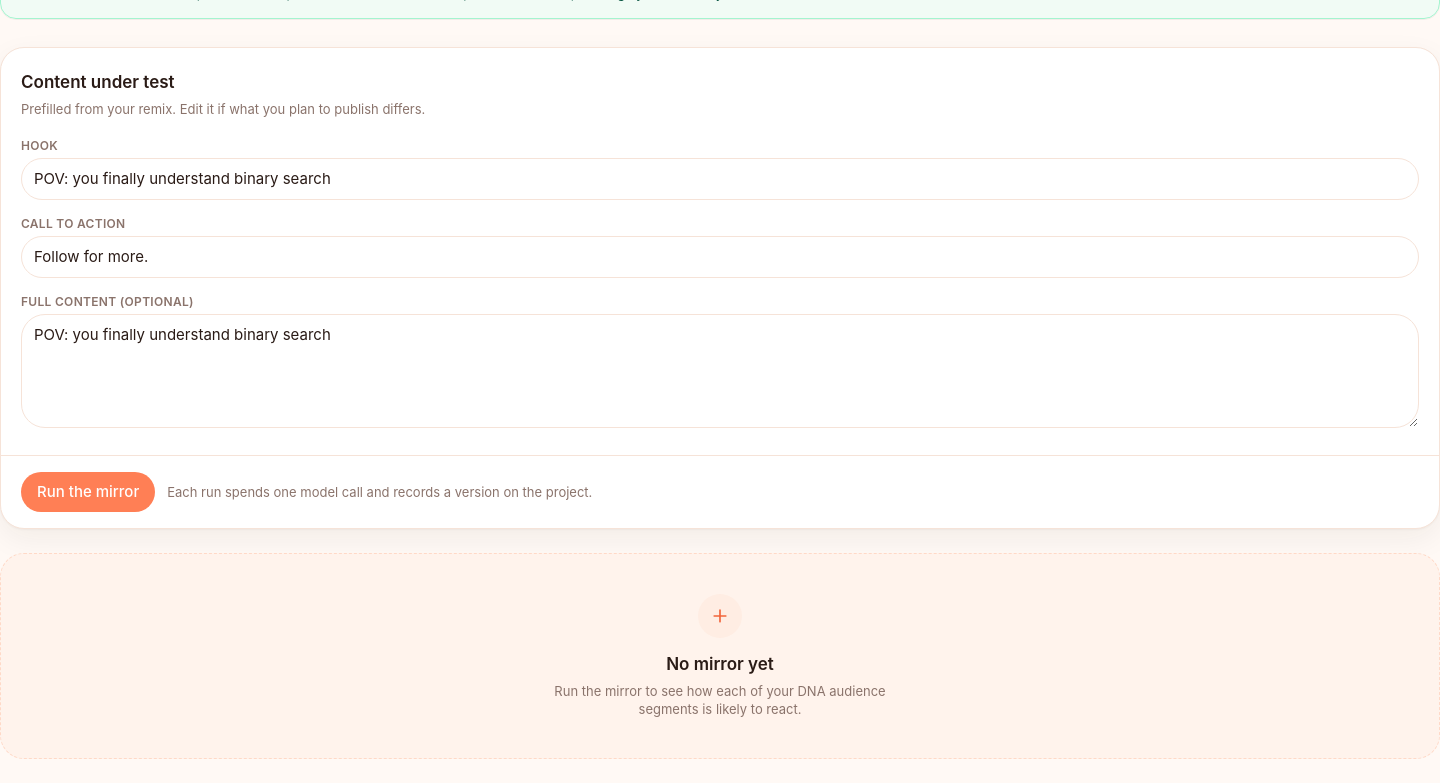
Test: AudiencePage › shows the AI insight box and the disclaimer
(page scrolled)
What coordinates should you click on to do the following:
click the button "Run the mirror"
I would click on:
 (88, 492)
Its box is [21,472,155,512].
(page scrolled)
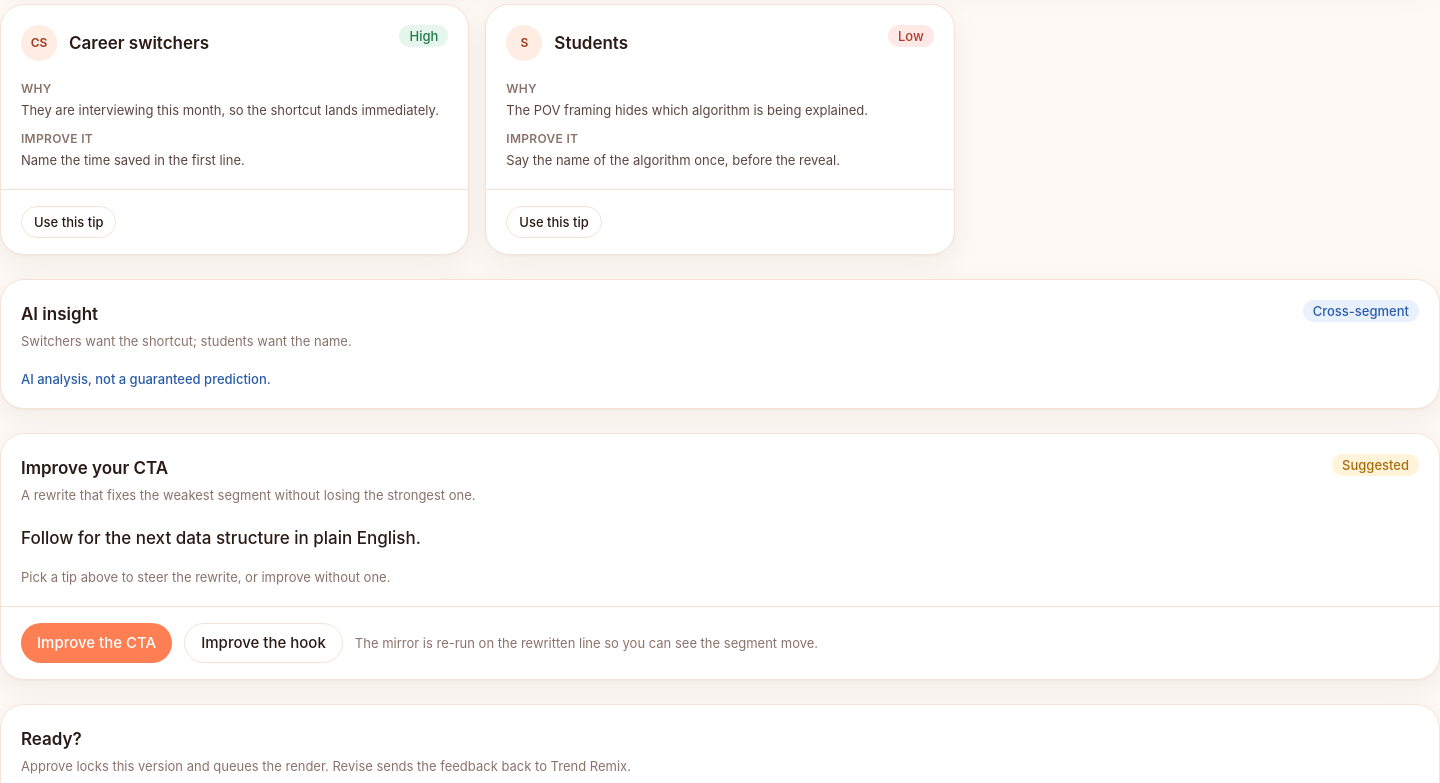
Check: the heading "AI insight" is shown, box [21,304,98,324]
Check: the text "Switchers want the shortcut; students want the name." is shown, box [21,332,352,350]
Check: the text "AI analysis, not a guaranteed prediction." is shown, box [21,370,271,386]
